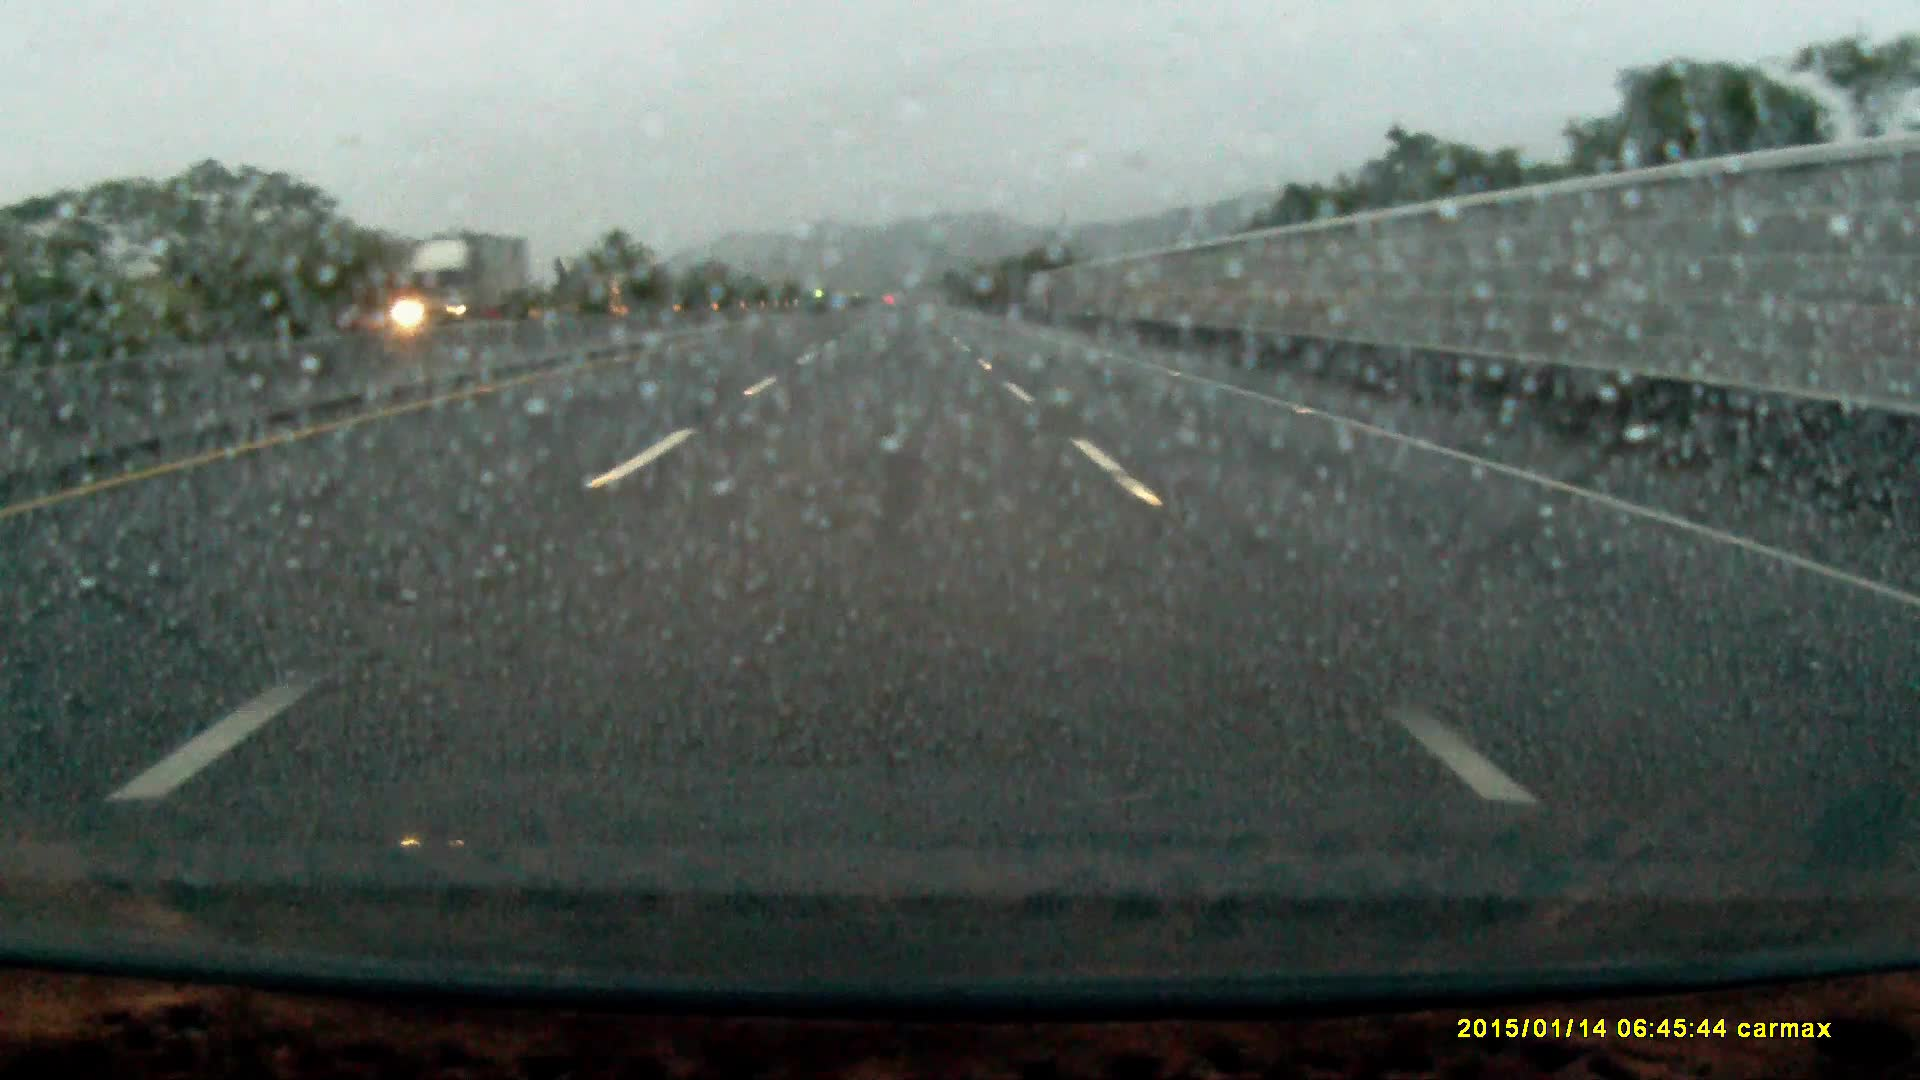vehicle: (393, 236, 533, 320)
